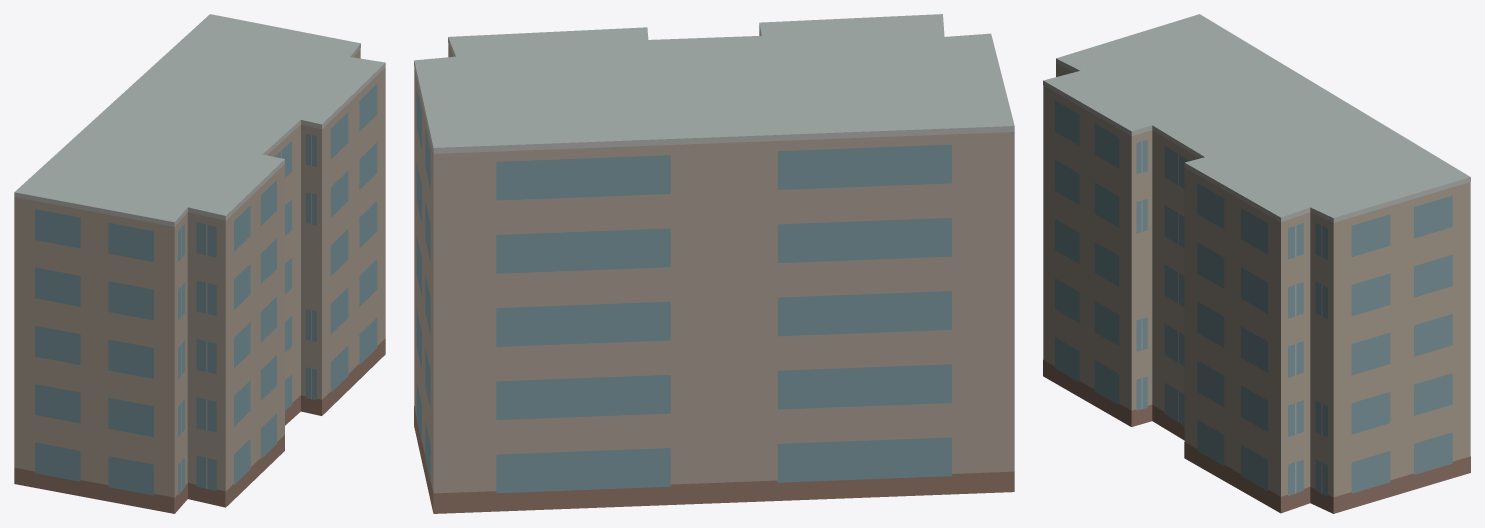
The model's file is survey-upis-32690985.glb.
3 views of the same model, side by side, from view 1: azimuth 30°, elevation 25°; view 2: azimuth 150°, elevation 25°; view 3: azimuth 270°, elevation 25° (orthographic). The views are drawn at different scales.
Visible parts, largest first — view 1: survey-upis-32690985.tmp; view 2: survey-upis-32690985.tmp; view 3: survey-upis-32690985.tmp.
Part boxes in pixels (x1=…): survey-upis-32690985.tmp: x1=14, y1=14, x2=385, y2=513; survey-upis-32690985.tmp: x1=414, y1=14, x2=1014, y2=513; survey-upis-32690985.tmp: x1=1043, y1=14, x2=1470, y2=513.
Bounding box in the file's own units: 22.14 × 14.95 × 19.6.
